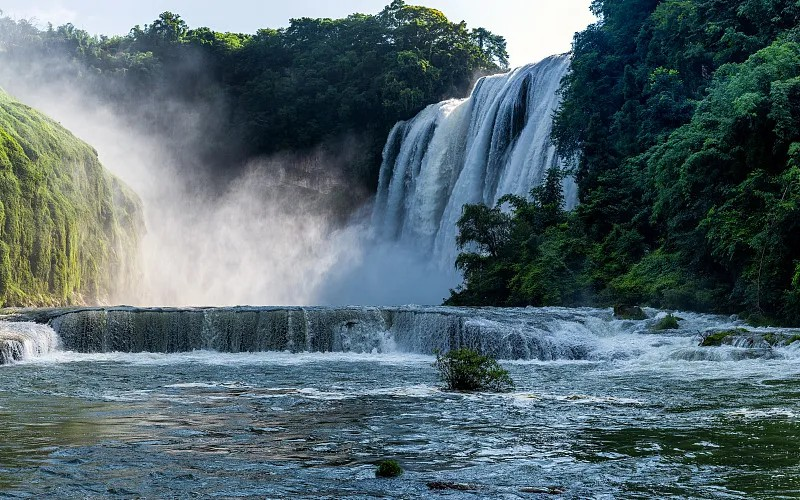Huangguoshu: (370, 51, 582, 303)
